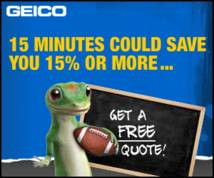Geico: (6, 3, 70, 18)
